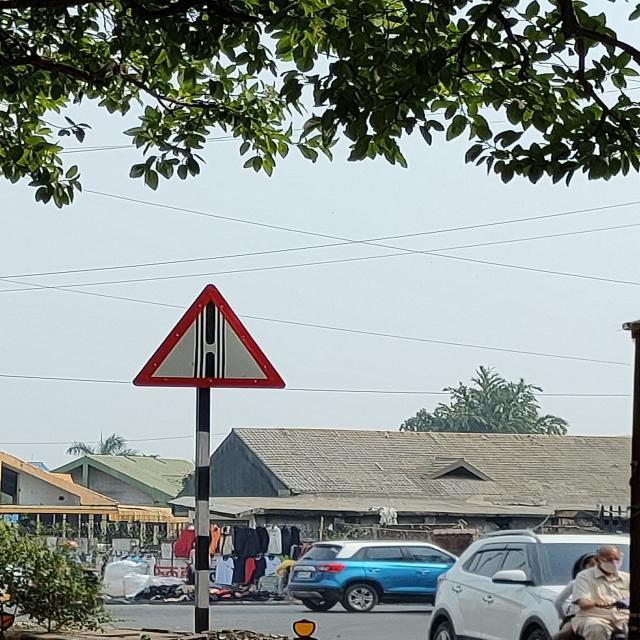GAP_IN_MEDIAN: (132, 283, 287, 388)
